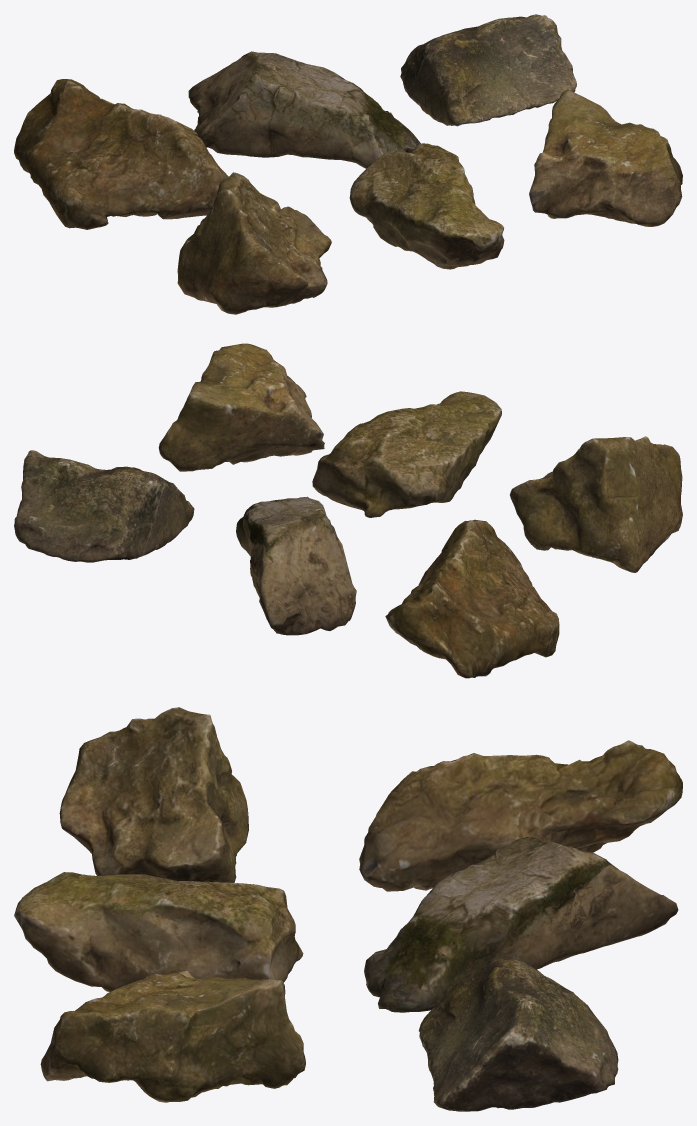
The model's file is rock_moss_set_01.fbx.
The picture shows the model from 3 angles, top to bottom: view 1: azimuth 30°, elevation 25°; view 2: azimuth 150°, elevation 25°; view 3: azimuth 270°, elevation 25°; orthographic projection. The views are drawn at different scales.
Parts seen in each view (by area): view 1: rock_moss_set_01_rock01, rock_moss_set_01_rock02, rock_moss_set_01_rock06, rock_moss_set_01_rock04, rock_moss_set_01_rock03, rock_moss_set_01_rock05; view 2: rock_moss_set_01_rock04, rock_moss_set_01_rock01, rock_moss_set_01_rock05, rock_moss_set_01_rock03, rock_moss_set_01_rock06, rock_moss_set_01_rock02; view 3: rock_moss_set_01_rock01, rock_moss_set_01_rock02, rock_moss_set_01_rock05, rock_moss_set_01_rock04, rock_moss_set_01_rock06, rock_moss_set_01_rock03.
Boxes of the visible parts, bbox=[...] form: rock_moss_set_01_rock01: bbox=[14, 79, 228, 229]; rock_moss_set_01_rock02: bbox=[188, 51, 420, 168]; rock_moss_set_01_rock06: bbox=[529, 89, 682, 226]; rock_moss_set_01_rock04: bbox=[177, 172, 331, 314]; rock_moss_set_01_rock03: bbox=[400, 14, 576, 126]; rock_moss_set_01_rock05: bbox=[349, 143, 504, 269]; rock_moss_set_01_rock04: bbox=[510, 436, 682, 572]; rock_moss_set_01_rock01: bbox=[385, 519, 559, 678]; rock_moss_set_01_rock05: bbox=[312, 391, 501, 517]; rock_moss_set_01_rock03: bbox=[14, 450, 194, 562]; rock_moss_set_01_rock06: bbox=[158, 343, 324, 471]; rock_moss_set_01_rock02: bbox=[236, 496, 356, 635]; rock_moss_set_01_rock01: bbox=[359, 740, 682, 891]; rock_moss_set_01_rock02: bbox=[364, 837, 678, 1012]; rock_moss_set_01_rock05: bbox=[14, 872, 303, 991]; rock_moss_set_01_rock04: bbox=[59, 707, 248, 882]; rock_moss_set_01_rock06: bbox=[40, 970, 305, 1102]; rock_moss_set_01_rock03: bbox=[418, 956, 618, 1111].
Size of the model in its own units: 8 by 1.77 by 6.95.
